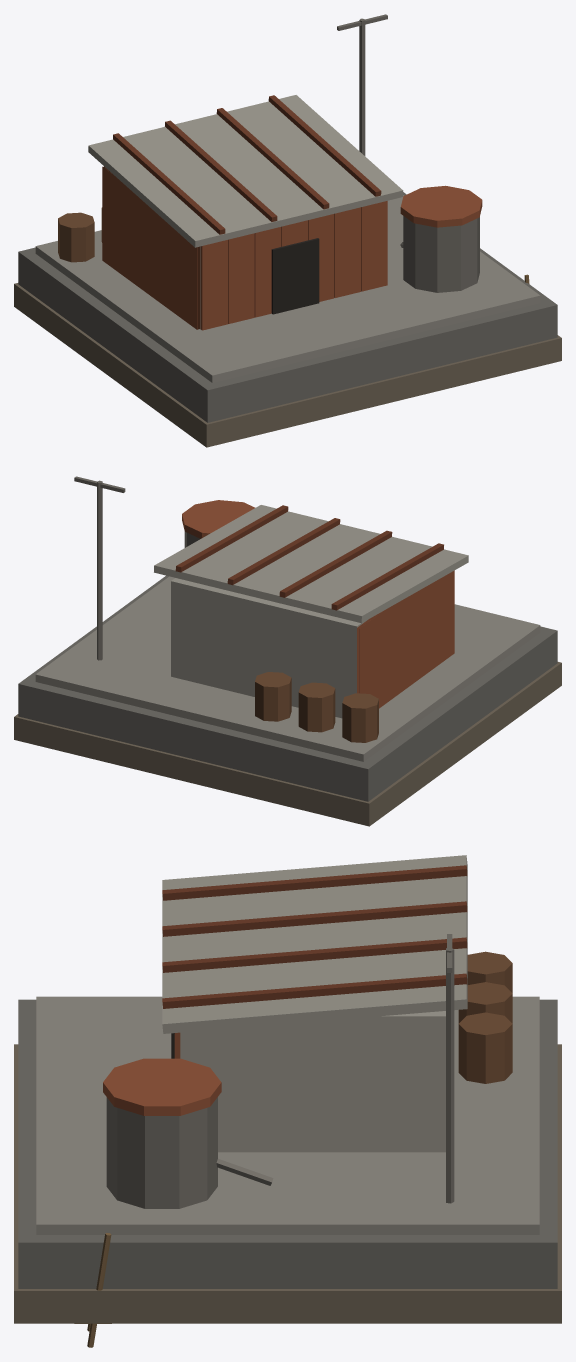
The model's file is S_RoofShack.glb.
3 renders of one model, top to bottom at view 1: azimuth 30°, elevation 25°; view 2: azimuth 150°, elevation 25°; view 3: azimuth 270°, elevation 25°, orthographic. The views are drawn at different scales.
Parts seen in each view (by area): view 1: S_RoofShack; view 2: S_RoofShack; view 3: S_RoofShack.
Part boxes in pixels (<box>): S_RoofShack: <box>14,14,561,447</box>; S_RoofShack: <box>14,476,561,826</box>; S_RoofShack: <box>14,855,561,1347</box>.
Size of the model in its own units: 6.5 by 4.51 by 6.1.
